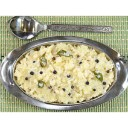venpongal: (18, 50, 112, 96)
